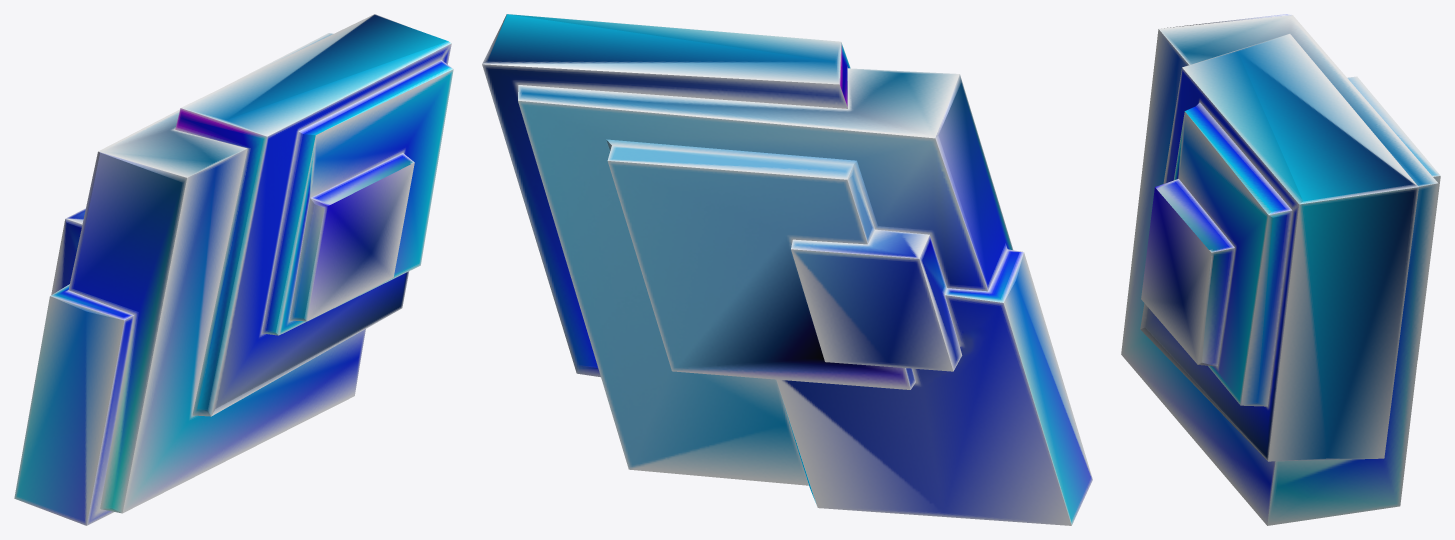
The model's file is Crystal11.FBX.
3 renders of one model, left to right at view 1: azimuth 30°, elevation 25°; view 2: azimuth 150°, elevation 25°; view 3: azimuth 270°, elevation 25°, orthographic. The views are drawn at different scales.
Parts seen in each view (by area): view 1: Crystal11; view 2: Crystal11; view 3: Crystal11.
Part boxes in pixels (x1,y1,x2,y2): Crystal11: [14, 14, 453, 525]; Crystal11: [482, 14, 1092, 525]; Crystal11: [1121, 14, 1440, 525].
Bounding box in the file's own units: 33.24 × 23.54 × 16.51.
